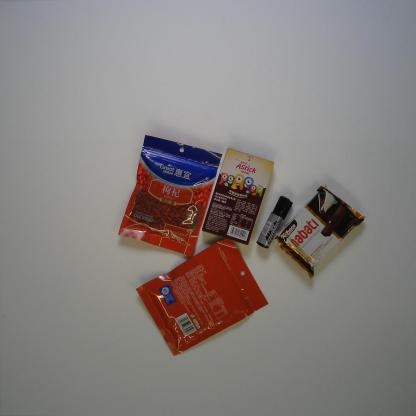Dessert: (274, 184, 366, 279), (201, 147, 275, 246)
Dried Fruit: (134, 237, 270, 360), (116, 132, 222, 259)
Stationery: (255, 195, 292, 251)
